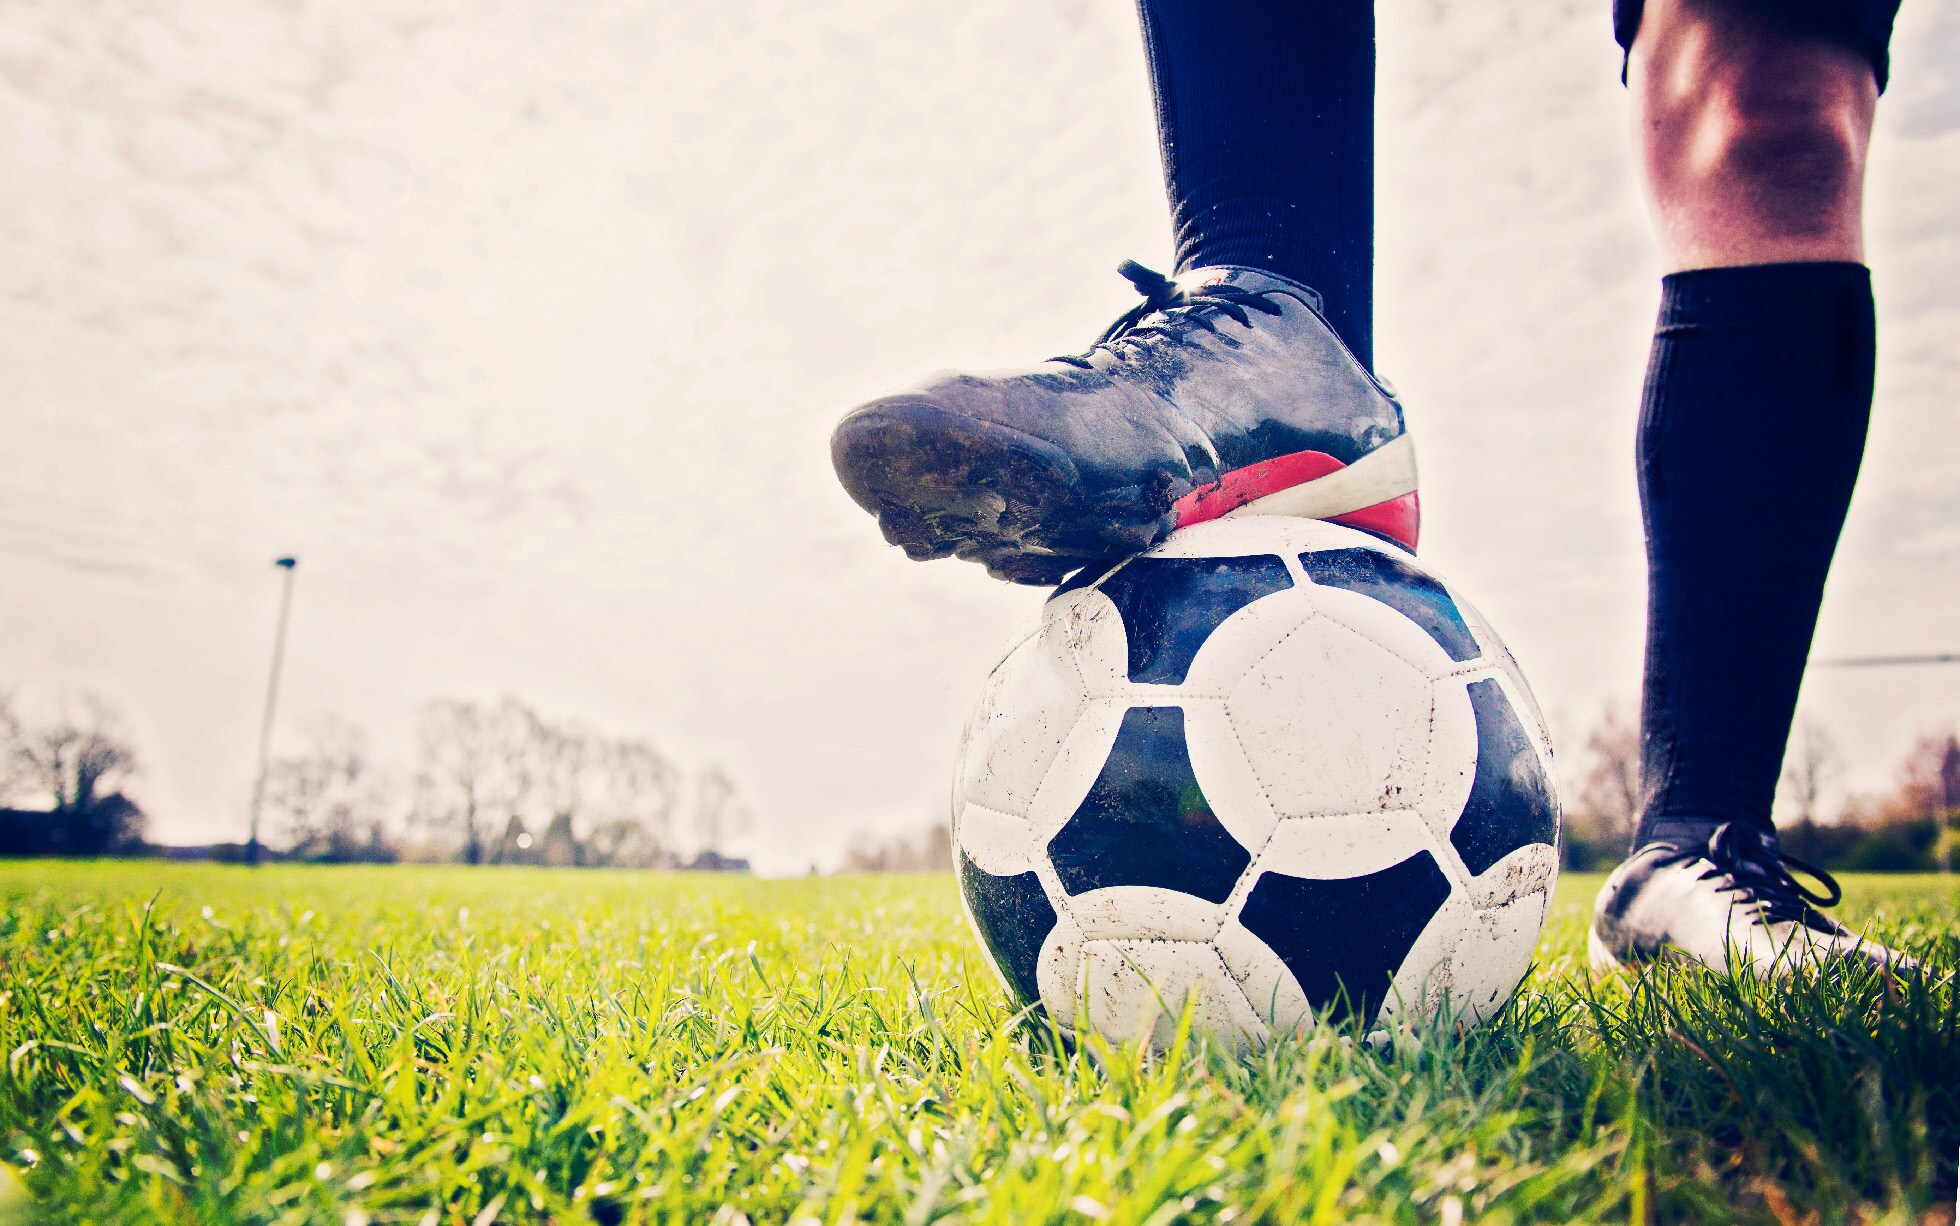football boots: (830, 271, 1421, 569), (1586, 845, 1936, 984)
